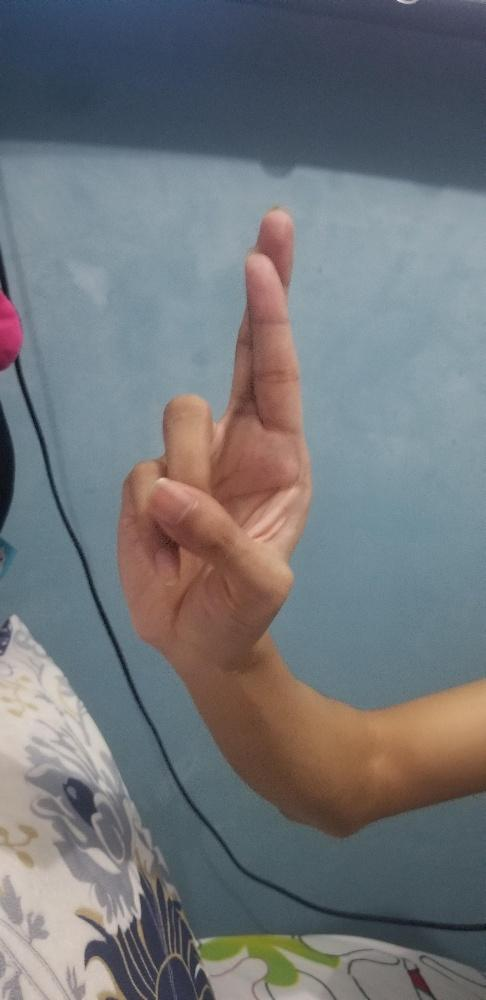r: (113, 202, 316, 671)
